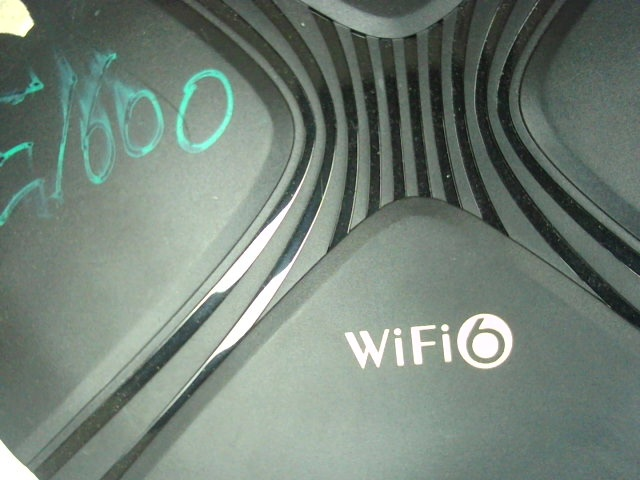AK_ZTEWIFI6Black: (324, 306, 534, 376)
